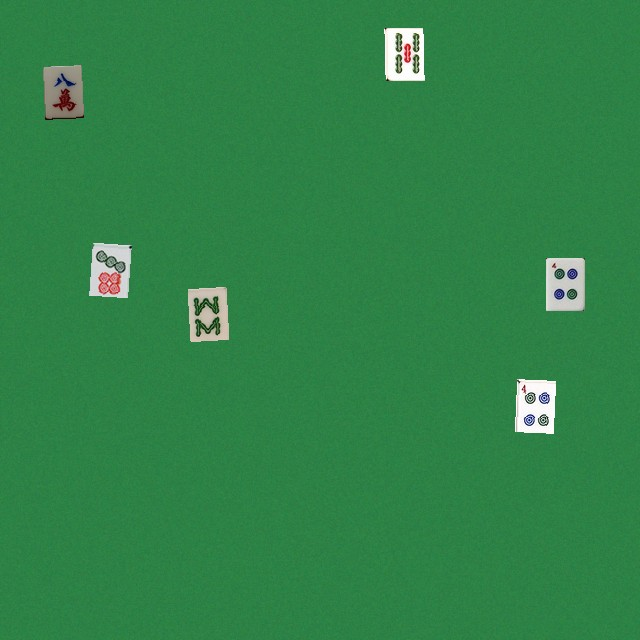tile: (187, 286, 226, 339), (545, 257, 584, 310), (384, 27, 423, 80), (514, 379, 553, 432), (42, 65, 81, 118), (89, 242, 128, 295)
